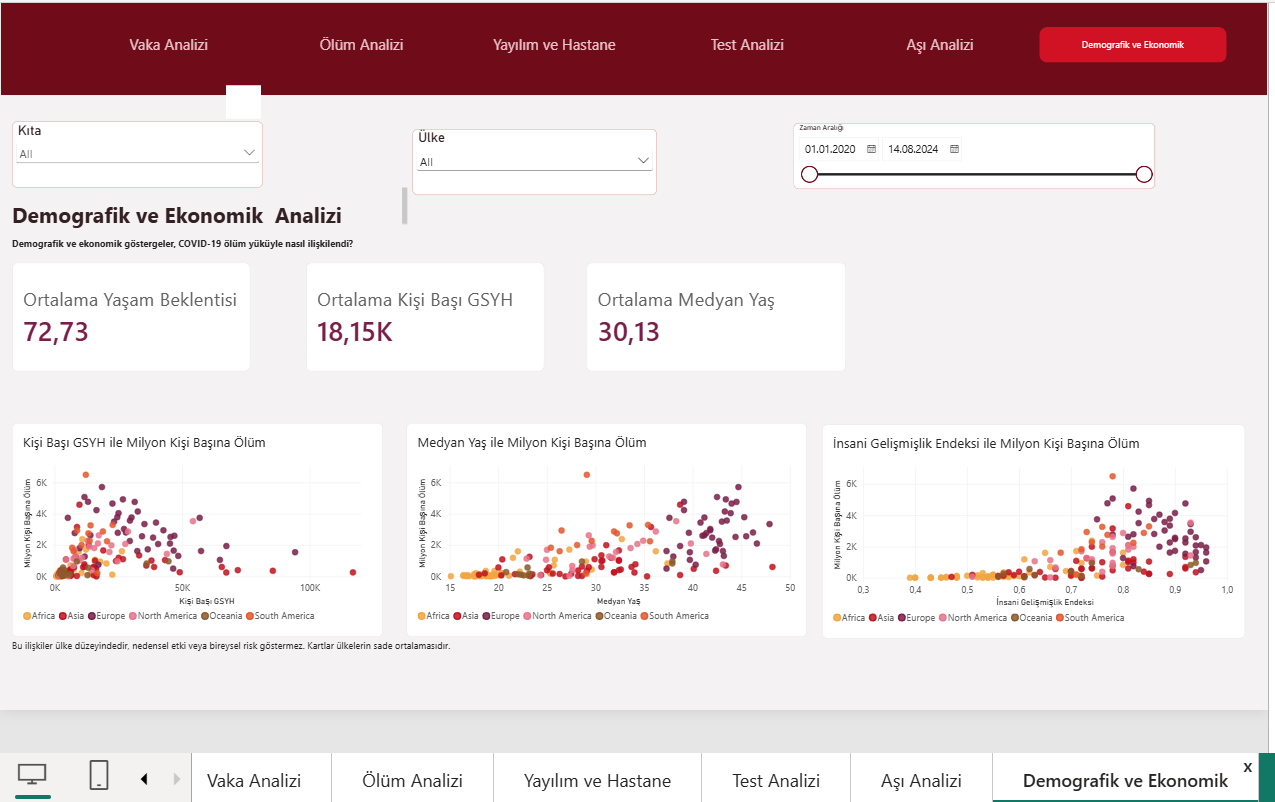

What the dashboard file says about the page in this screenshot:
{"tool":"powerbi","page":{"name":"Demografik ve Ekonomik","canvas":[1920,1080],"ordinal":5},"visuals":[{"type":"shape","box":[0,0,1919.3,149.9],"z":0},{"type":"pageNavigator","box":[113.6,45.4,1744.4,54.5],"z":1000}]}

Visuals, with their boxes on the page's 1920x1080 design canvas (x1, y1, x2, y2). These are canvas units, not pixel positions in the 1275x802 screenshot, which may show the page scaled, cropped or inside an application window:
shape: [x1=0, y1=0, x2=1919, y2=150]
pageNavigator: [x1=114, y1=45, x2=1858, y2=100]
